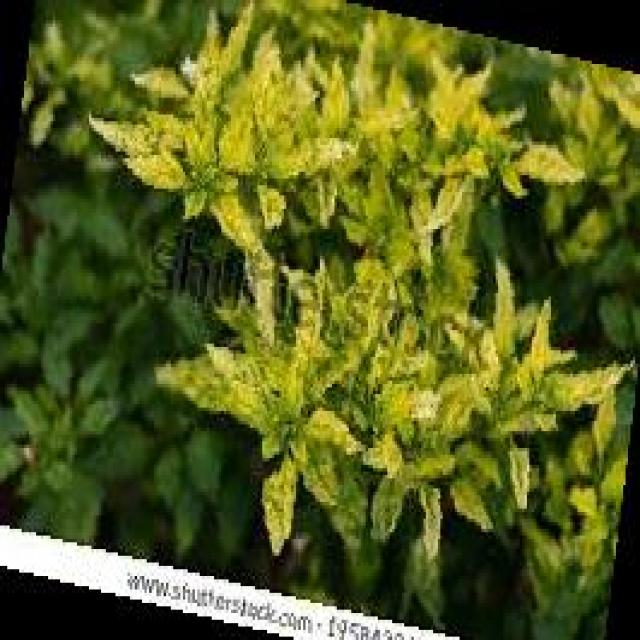Rust: (262, 451, 308, 554), (126, 138, 194, 196)
